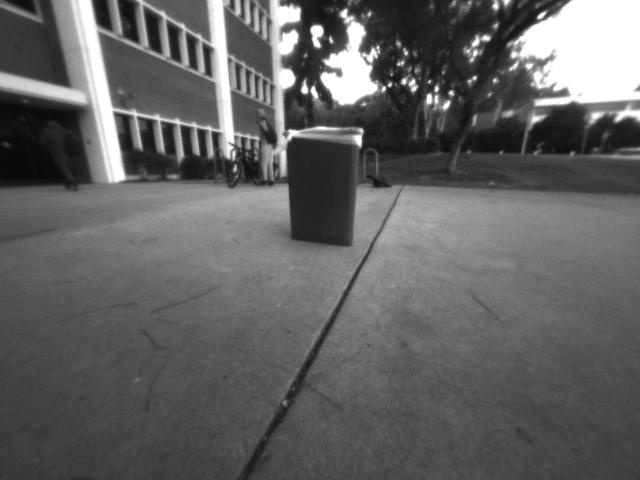trashcan_open: (279, 118, 368, 262)
